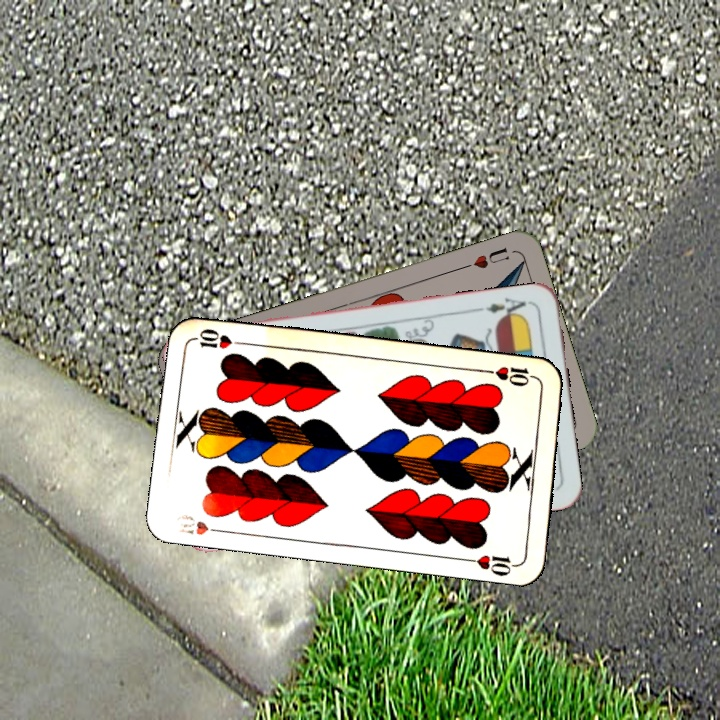EA: (474, 293, 533, 322)
H10: (172, 510, 229, 538), (481, 362, 540, 389)
HU: (458, 243, 512, 272)
